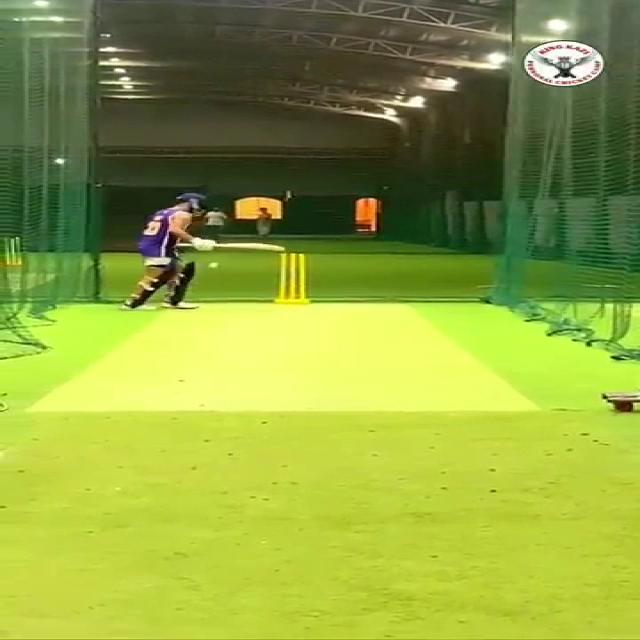batsman: (116, 186, 289, 314)
